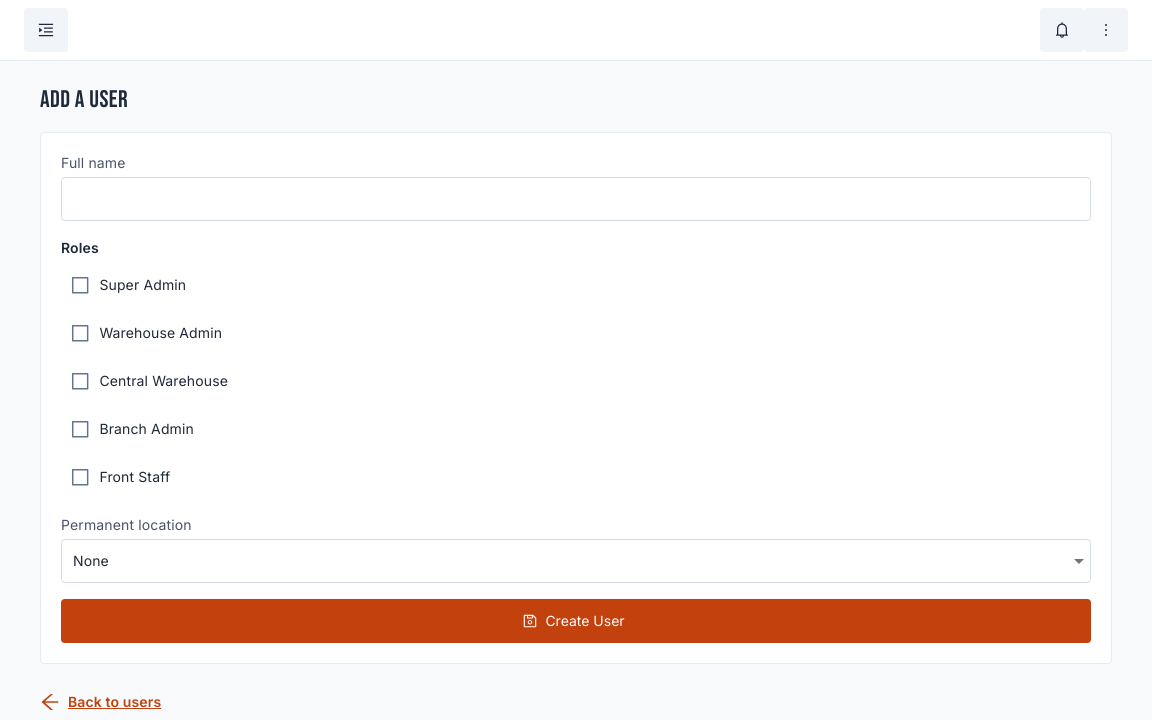
Scenario: create a user: one-time password shown once › checks the name and role before sending
This screenshot has width=1152, height=720.
Expected: the heading "Add a user" is shown, [40,85,128,114]
Click the button "Create user".
click(576, 621)  # box [61,599,1091,643]
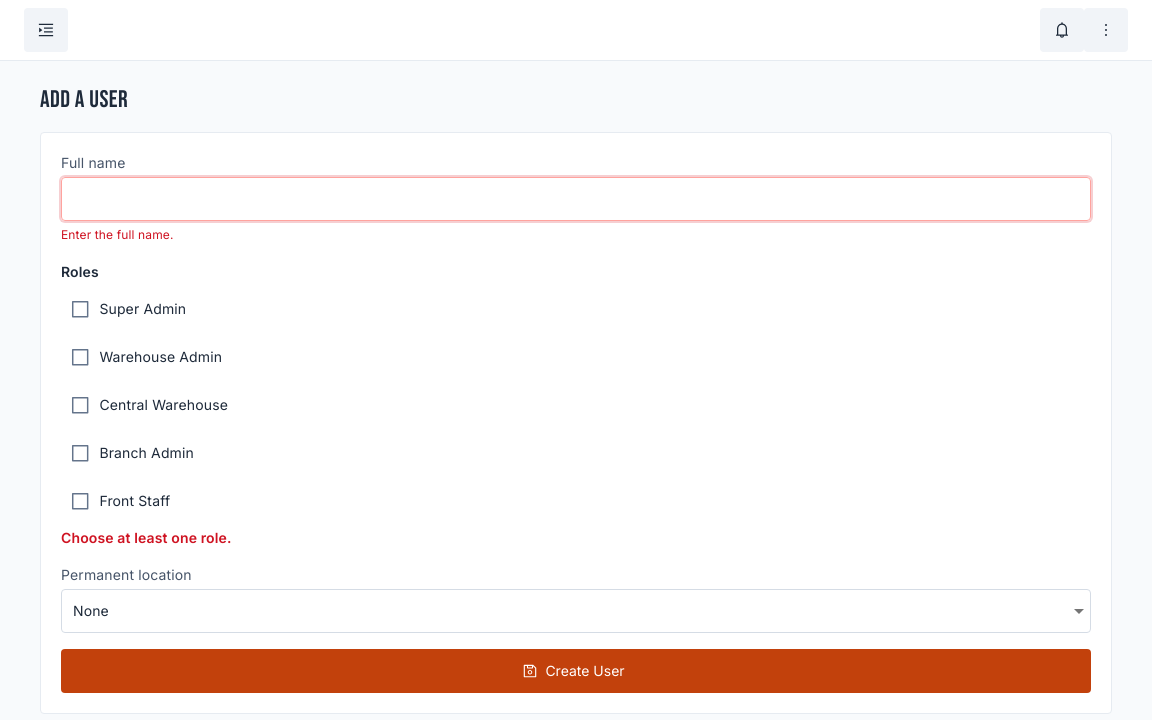
Expected: the text "Enter the full name." is shown, [61,227,174,242]
Expected: the text "Choose at least one role." is shown, [61,529,232,546]
